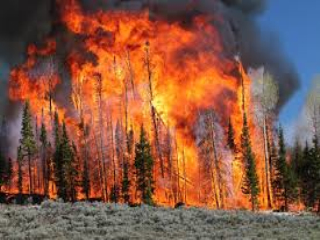fire: (62, 9, 256, 209), (11, 39, 60, 205)
smoke: (219, 6, 306, 84)
